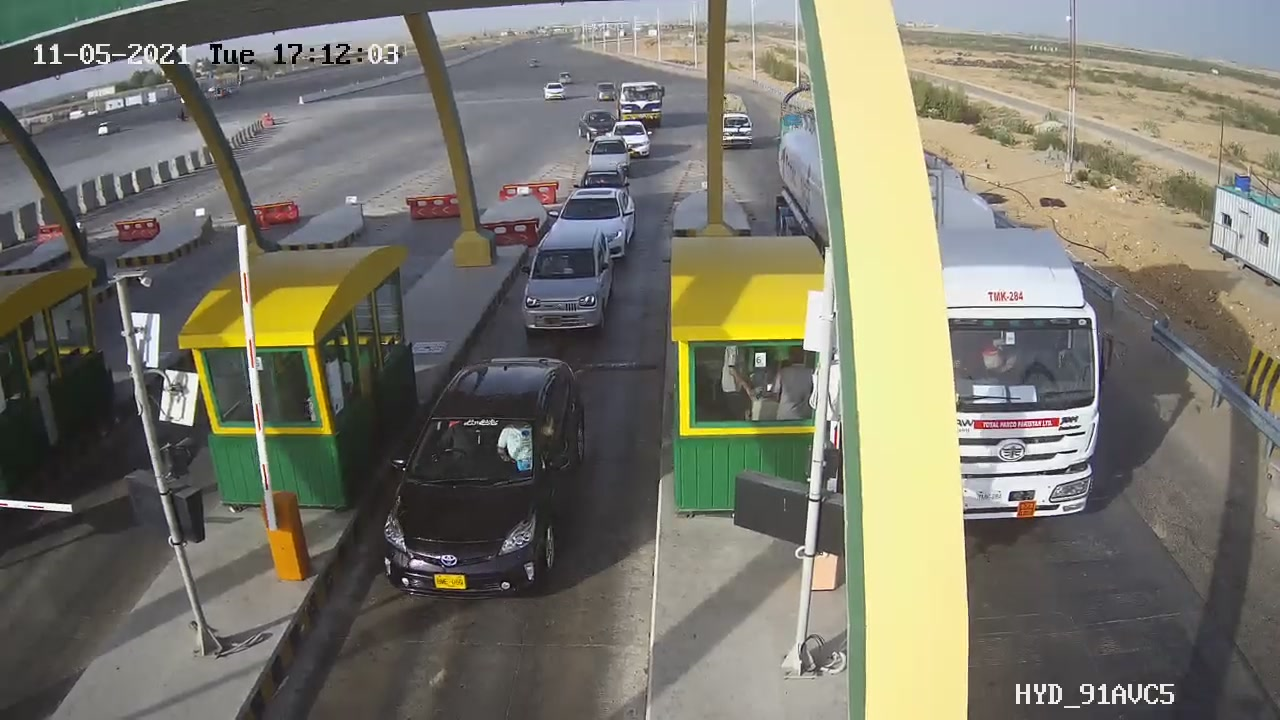F1: (350, 343, 621, 621), (503, 220, 630, 342)
